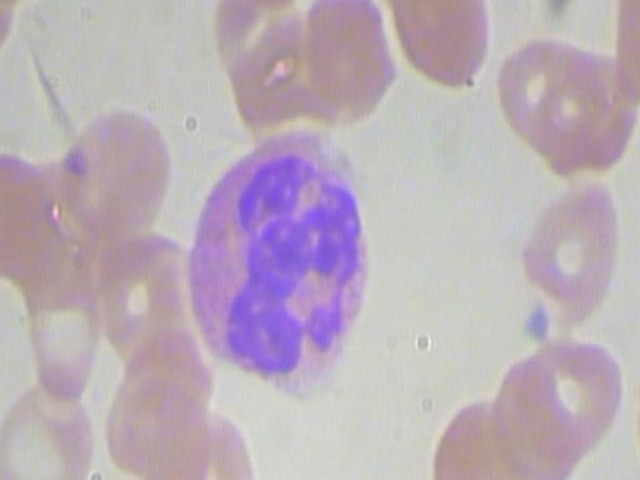Platelets: (515, 301, 555, 347)
RBC: (513, 177, 628, 327), (64, 91, 179, 241), (520, 327, 635, 476), (291, 0, 406, 125), (378, 0, 493, 96), (0, 373, 102, 480)
WBC: (168, 116, 382, 397)
